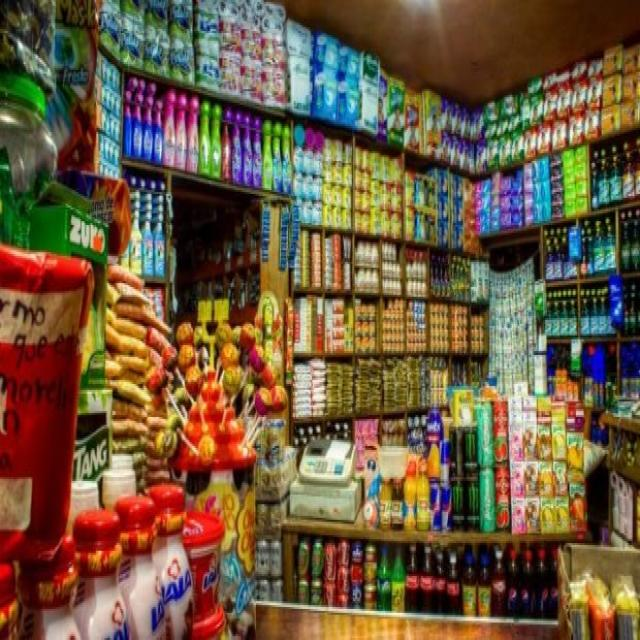coca cola: (405, 570, 420, 590)
